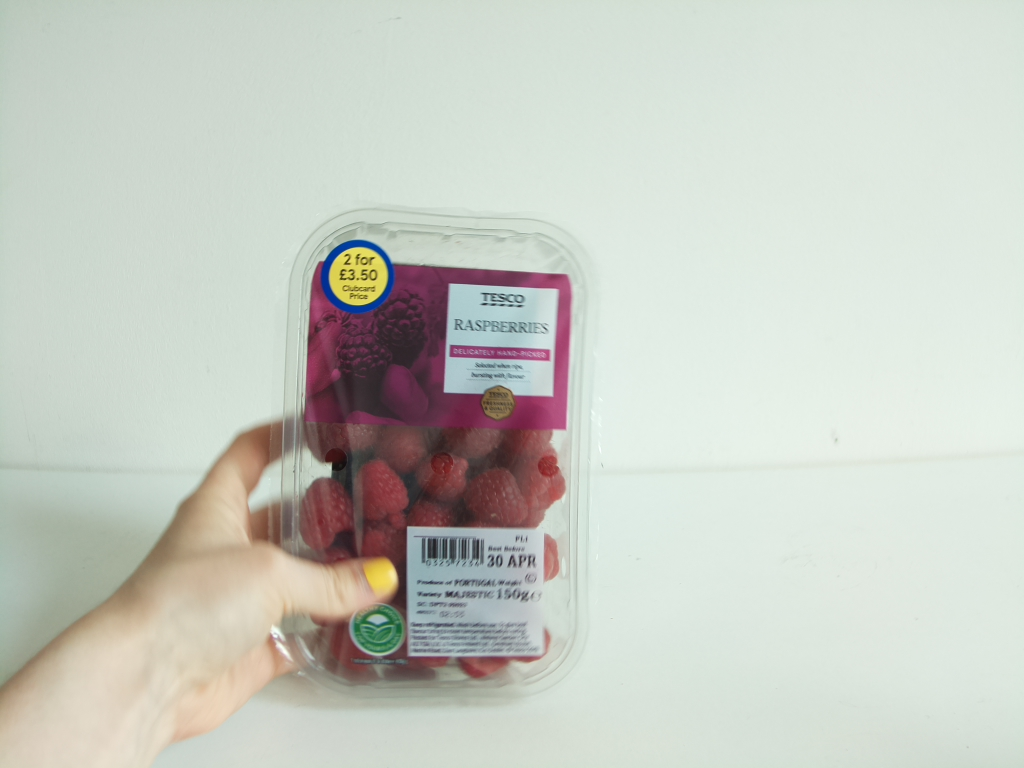soft-fruit: (270, 203, 596, 705)
